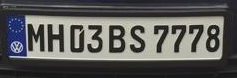0: (69, 24, 85, 53)
3: (87, 24, 104, 53)
7: (171, 23, 187, 55), (188, 24, 205, 53), (153, 25, 170, 53)
8: (206, 24, 220, 52)
B: (108, 24, 127, 54)
H: (46, 23, 65, 52)
M: (26, 23, 46, 52)
S: (129, 24, 147, 53)
